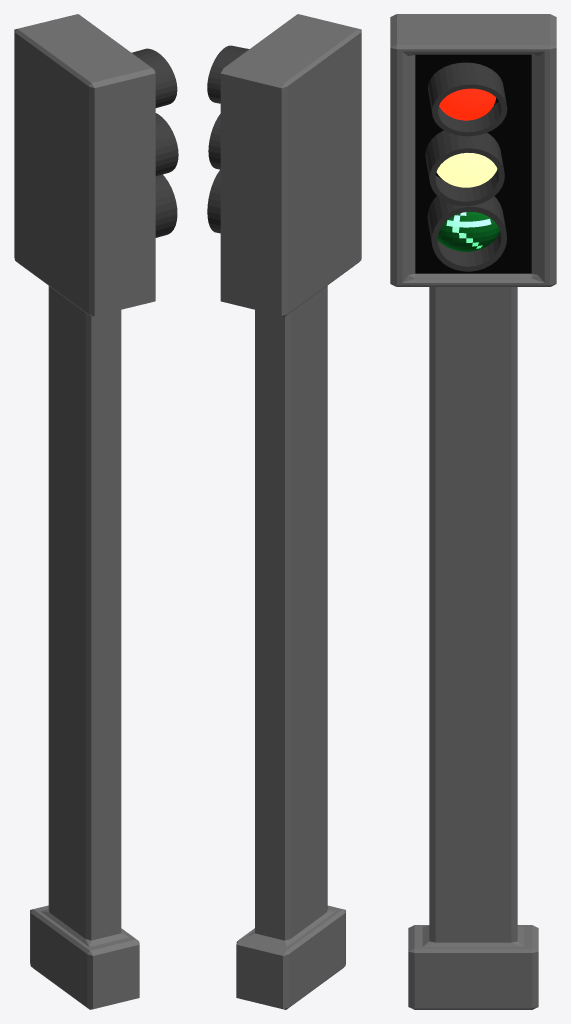
File: traffic_light_1B.fbx
3 views of the same model, side by side, from view 1: azimuth 30°, elevation 25°; view 2: azimuth 150°, elevation 25°; view 3: azimuth 270°, elevation 25° (orthographic). The views are drawn at different scales.
Visible parts, largest first — view 1: Cube, Cylinder, Cylinder.002, Cylinder.001; view 2: Cube, Cylinder, Cylinder.002, Cylinder.001; view 3: Cube, Cylinder, Cylinder.001, Cylinder.002, Sphere.002, Sphere.001, Sphere.
Boxes of the visible parts, box(x1,y1,x2,y2) form: Cube: box(14, 14, 155, 1009); Cylinder: box(132, 48, 177, 107); Cylinder.002: box(155, 174, 177, 237); Cylinder.001: box(155, 113, 178, 176); Cube: box(220, 14, 361, 1009); Cylinder: box(207, 45, 249, 103); Cylinder.002: box(207, 169, 220, 233); Cylinder.001: box(208, 114, 220, 169); Cube: box(390, 14, 556, 1009); Cylinder: box(428, 62, 507, 136); Cylinder.001: box(425, 130, 504, 206); Cylinder.002: box(427, 196, 506, 271); Sphere.002: box(437, 211, 500, 251); Sphere.001: box(436, 152, 497, 187); Sphere: box(439, 88, 496, 120).
Bounding box in the file's own units: 2.81 × 23.83 × 3.71.
